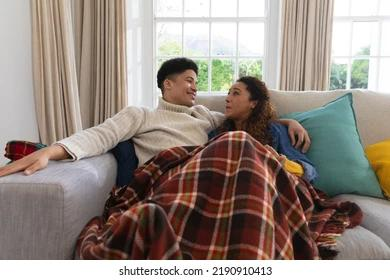blanket: (73, 130, 365, 260)
jacket: (207, 119, 319, 185)
sweater: (51, 96, 234, 171)
